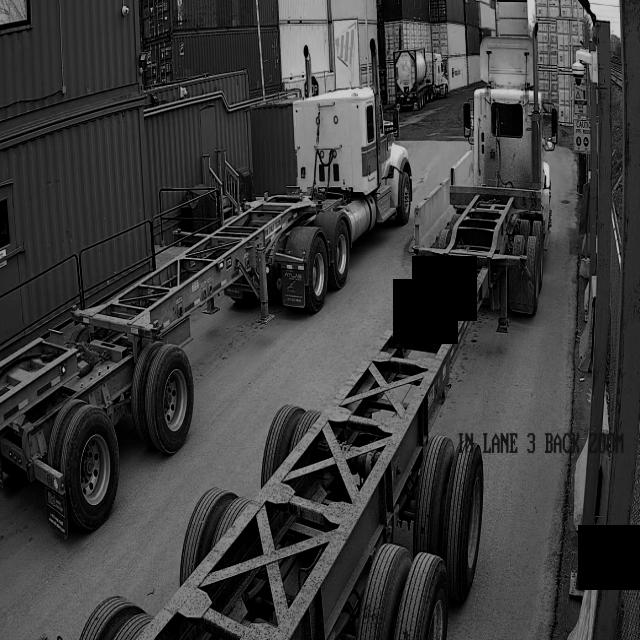truck_without_container: (79, 35, 551, 640), (0, 86, 412, 537)
